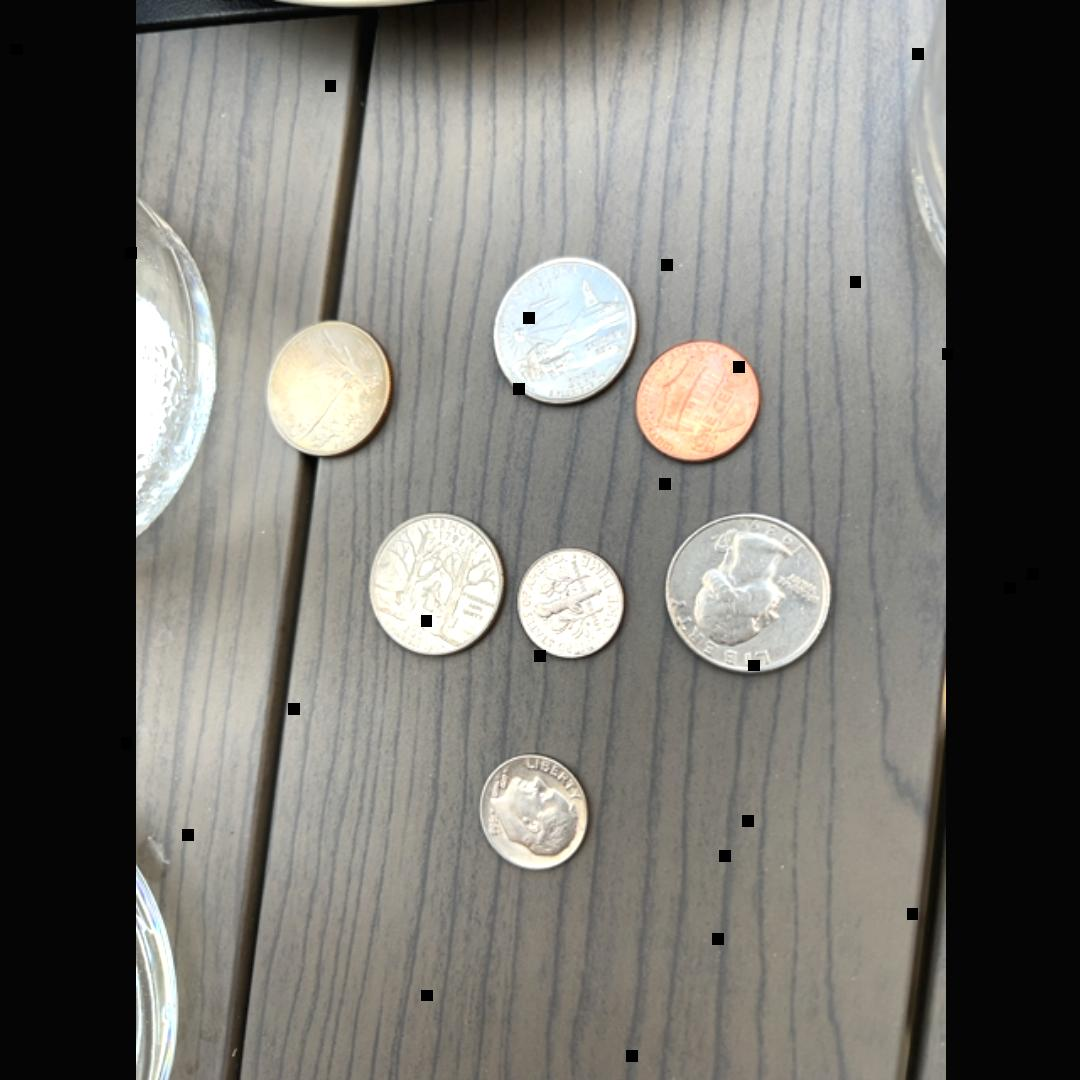Dime: (477, 755, 589, 872), (516, 550, 625, 661)
Penny: (634, 341, 762, 466)
Quarter: (662, 512, 834, 676), (490, 258, 638, 406), (366, 514, 505, 660), (264, 319, 392, 458)
